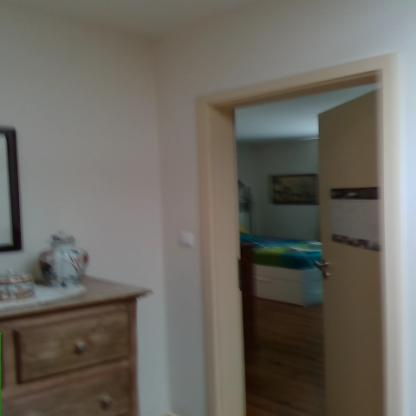semi: (185, 56, 405, 416)
